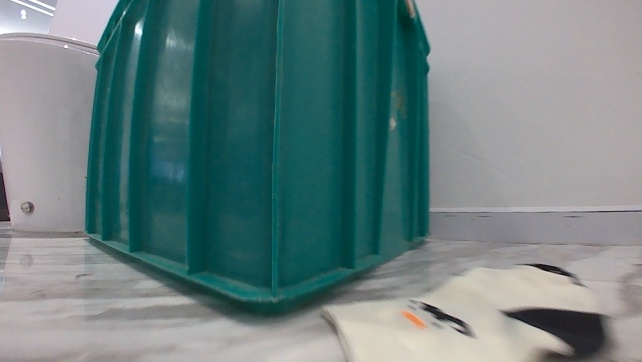socks: (316, 256, 613, 361)
toilet: (0, 28, 104, 240)
